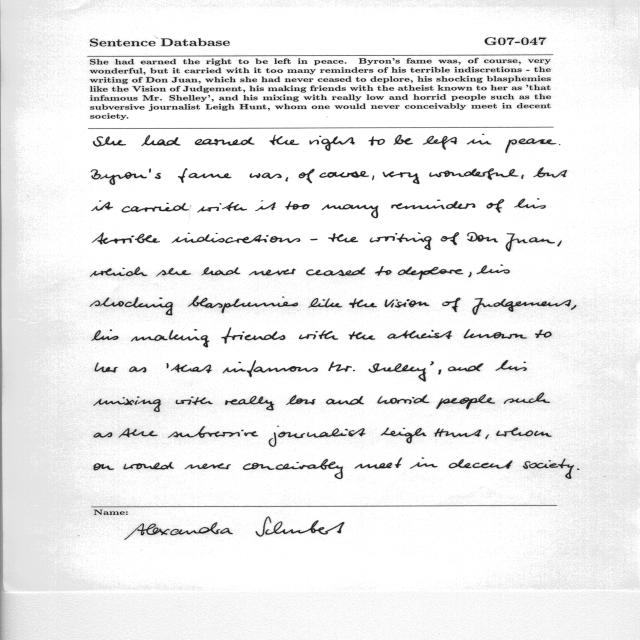word: (269, 426, 366, 447), (243, 459, 343, 479), (188, 296, 298, 313), (473, 298, 571, 315), (223, 360, 318, 377), (90, 297, 173, 315), (172, 233, 300, 244), (131, 329, 209, 347), (91, 168, 161, 185), (370, 233, 432, 251), (429, 168, 519, 180), (168, 426, 258, 438), (94, 396, 161, 412), (523, 458, 574, 479), (369, 364, 427, 382), (222, 328, 286, 344), (506, 233, 555, 252), (398, 266, 463, 280), (436, 395, 495, 410), (391, 200, 476, 210), (92, 233, 160, 245), (322, 205, 379, 219), (178, 168, 231, 183), (506, 139, 557, 154), (381, 428, 426, 444), (225, 396, 274, 410), (310, 136, 355, 151), (122, 203, 189, 213), (449, 459, 513, 469), (464, 329, 527, 339), (387, 330, 452, 339), (90, 267, 148, 277), (496, 427, 552, 437), (195, 137, 255, 146), (306, 267, 365, 276), (354, 458, 402, 469), (378, 394, 430, 404), (504, 393, 550, 404), (197, 202, 247, 212), (383, 171, 420, 184), (423, 136, 457, 150), (142, 135, 181, 146), (434, 428, 481, 437), (123, 462, 174, 470), (385, 299, 429, 308), (299, 330, 338, 340), (119, 428, 158, 438), (534, 167, 568, 178), (171, 364, 212, 373), (93, 136, 126, 147), (320, 171, 370, 178), (326, 396, 364, 405), (496, 360, 527, 371), (249, 269, 296, 276), (92, 329, 119, 341), (514, 199, 546, 209), (156, 268, 191, 277), (448, 363, 483, 372), (201, 267, 240, 275), (467, 232, 498, 242), (410, 458, 438, 469), (308, 298, 342, 307), (270, 135, 300, 145), (328, 233, 358, 243), (286, 395, 316, 405), (477, 265, 510, 274), (176, 397, 213, 405), (349, 298, 377, 308), (185, 464, 231, 470), (328, 362, 355, 372), (442, 298, 461, 312), (467, 134, 491, 145), (487, 199, 505, 213), (441, 232, 459, 245), (349, 331, 375, 340), (92, 200, 113, 211), (255, 200, 276, 211), (95, 363, 118, 373), (285, 201, 310, 210), (250, 172, 282, 179), (299, 169, 314, 183), (394, 135, 413, 145), (375, 266, 392, 276), (368, 137, 385, 146), (94, 464, 114, 471), (535, 330, 552, 338), (94, 432, 112, 438), (129, 367, 146, 373), (557, 241, 562, 247), (571, 305, 576, 310), (468, 272, 472, 277), (485, 435, 489, 440), (430, 362, 434, 366), (439, 370, 442, 375), (285, 177, 288, 181), (521, 175, 524, 179), (372, 176, 374, 181), (167, 363, 169, 368), (310, 239, 318, 240), (577, 468, 580, 470), (559, 144, 560, 145)
